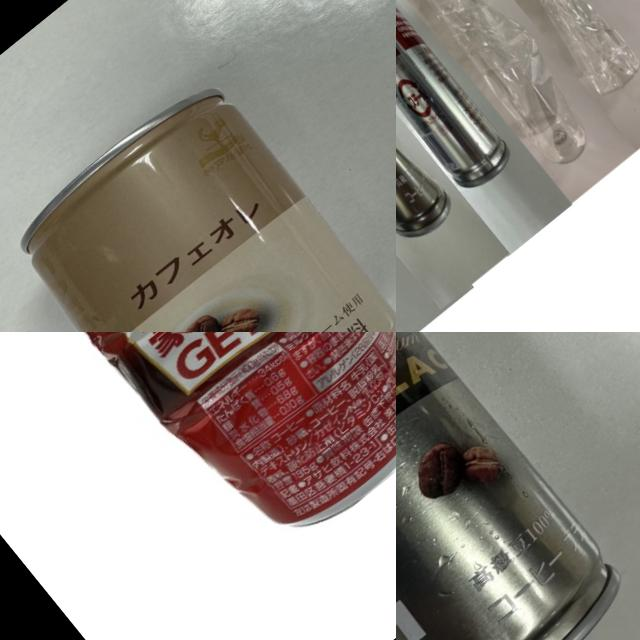Can: (0, 67, 396, 332), (34, 332, 396, 580), (396, 332, 640, 640), (396, 0, 518, 195), (396, 0, 464, 253)
Transparent Plastic Bottle: (396, 0, 609, 172), (417, 0, 640, 100)
